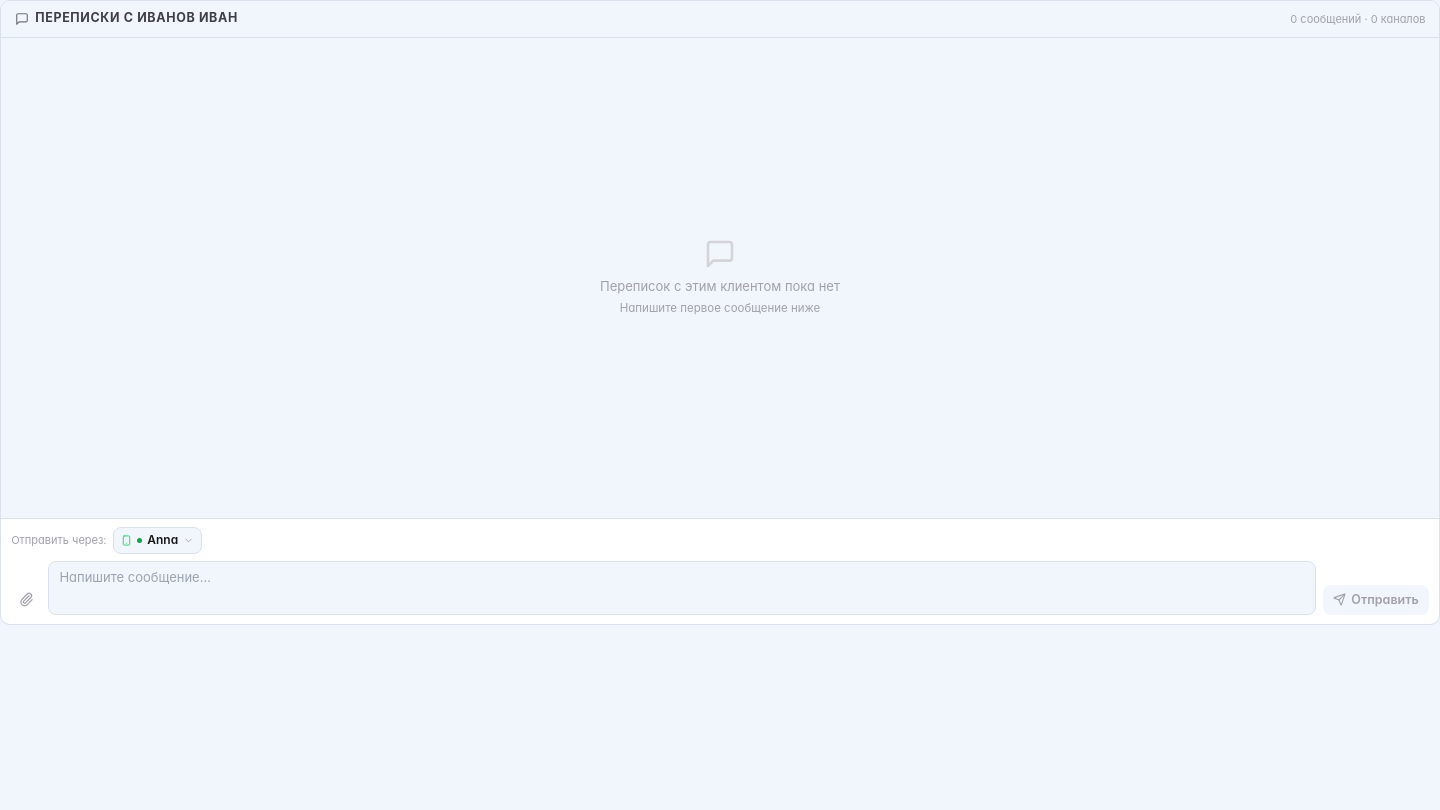
Test: LeadChatPanel — ChannelSelect › клик по опции → меняет выбранный канал и закрывает dropdown
Click the button with test id "channel-select-btn" at (158, 540), box [113,527,202,554]
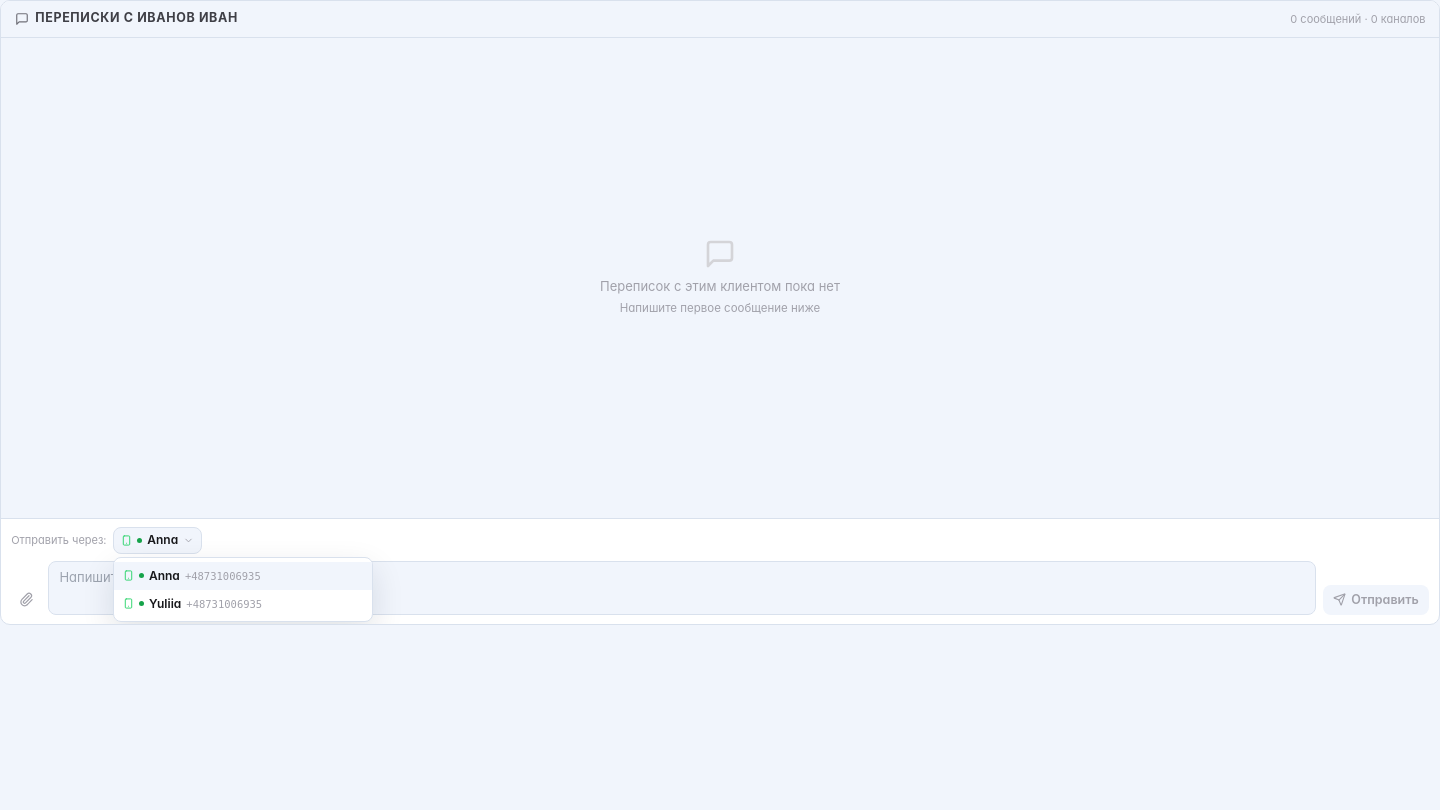
Click the button "Yuliia+48731006935" at (243, 604), box [114,590,372,618]
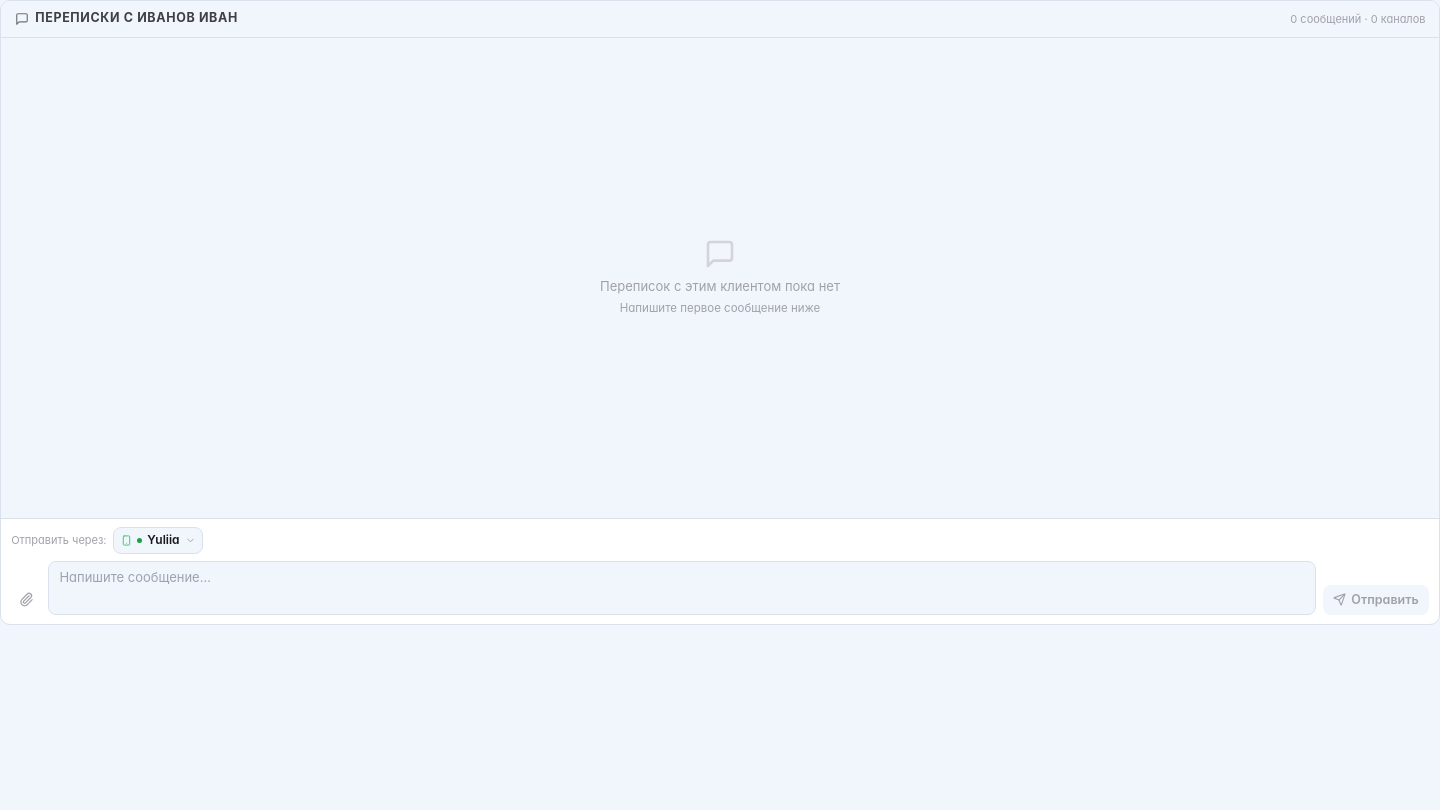
Now the element with test id "channel-dropdown" is gone
Now the button with test id "channel-select-btn" reads "Yuliia", box [113,527,203,554]
